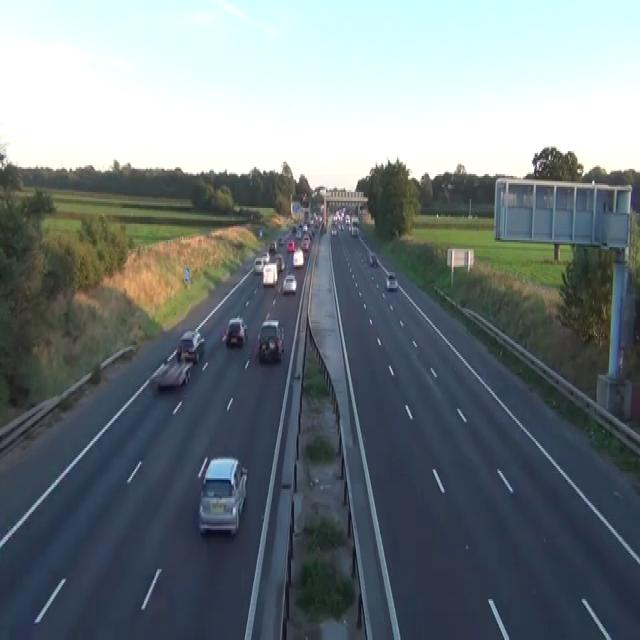Car: (198, 455, 247, 535), (257, 318, 284, 363), (156, 359, 192, 389), (176, 329, 205, 363), (331, 204, 359, 237), (225, 316, 248, 346), (282, 274, 297, 293), (292, 247, 303, 267), (385, 272, 397, 290), (253, 258, 264, 274), (275, 254, 284, 272), (301, 237, 310, 250), (369, 252, 377, 266), (441, 182, 455, 190), (287, 240, 295, 252), (262, 251, 270, 263), (269, 240, 276, 251), (351, 226, 358, 236), (320, 222, 326, 233), (446, 182, 454, 190), (278, 235, 284, 245), (351, 217, 359, 224), (331, 226, 337, 234), (295, 230, 301, 238), (291, 224, 296, 233), (302, 224, 307, 231), (259, 228, 262, 236)
Truck: (262, 262, 277, 286)
